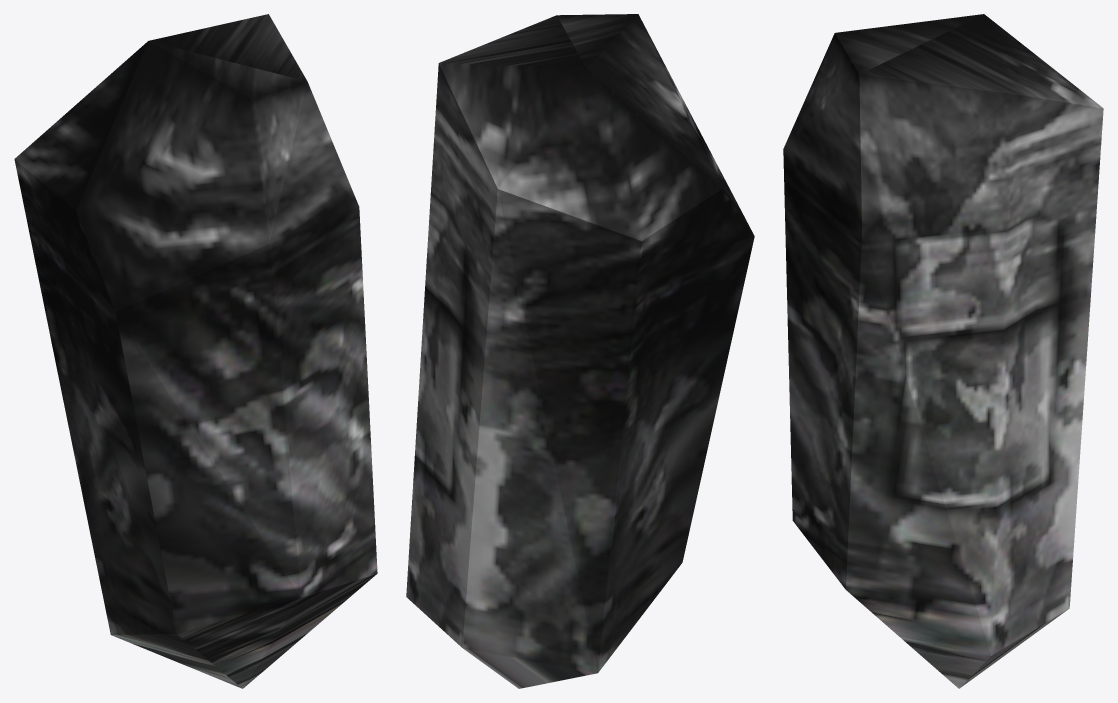
File: R_Thigh.obj
3 renders of one model, left to right at view 1: azimuth 30°, elevation 25°; view 2: azimuth 150°, elevation 25°; view 3: azimuth 270°, elevation 25°, orthographic. The views are drawn at different scales.
Visible parts, largest first — view 1: R_Thigh; view 2: R_Thigh; view 3: R_Thigh.
Boxes of the visible parts, box(x1,y1,x2,y2) form: R_Thigh: box(14, 14, 377, 688); R_Thigh: box(406, 14, 754, 688); R_Thigh: box(783, 14, 1103, 688).
Size of the model in its own units: 0.6163 by 1.37 by 0.6228.
